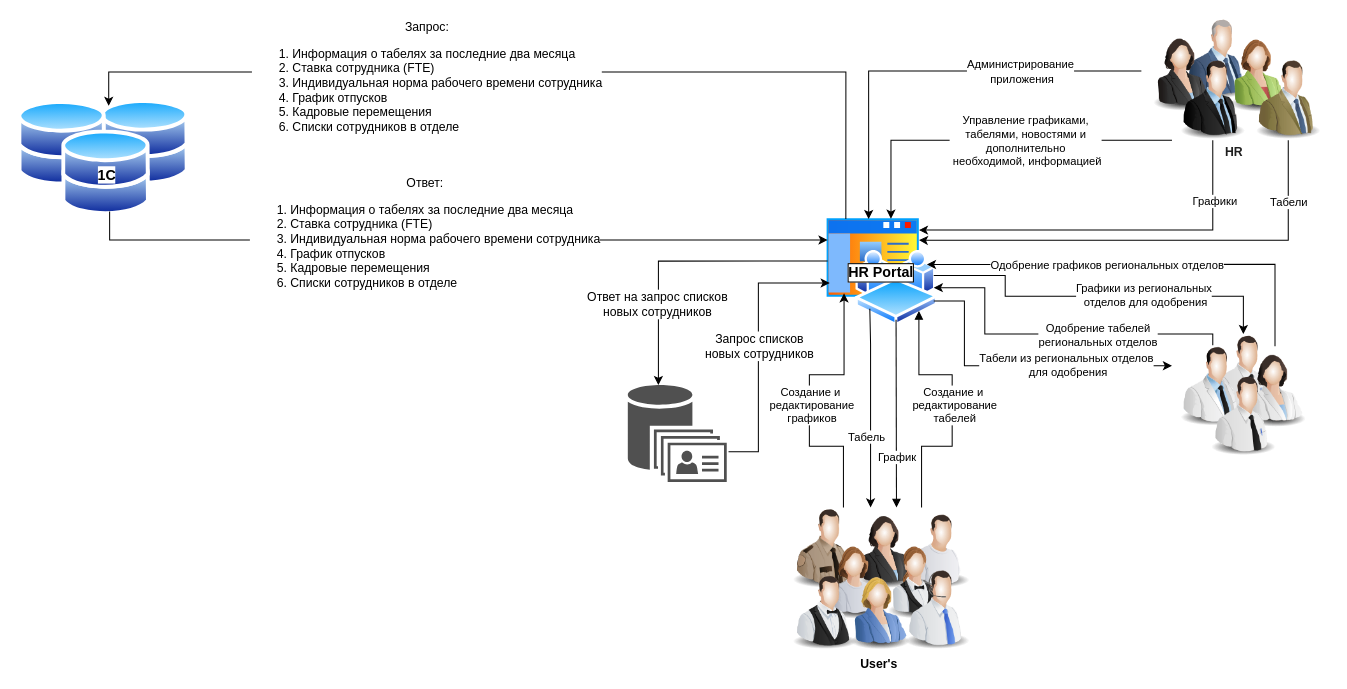
Image size: 1347x689. Some labels were removed from this diagram. Here are the shapes that lost their labels. From the top down, the centre of each, then its label:
(x=676, y=433): UMS
(x=1243, y=415): Regional HR
